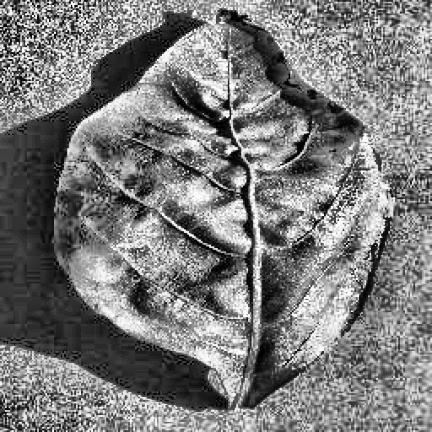leaf: (54, 8, 392, 407)
